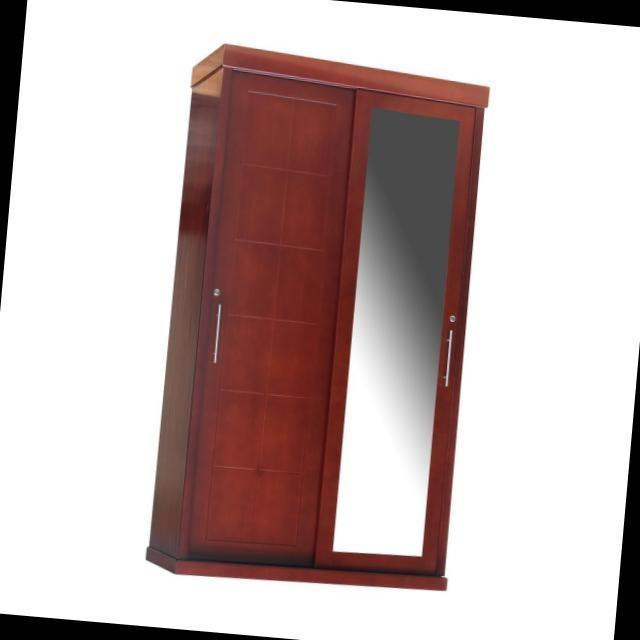Lemari: (171, 42, 490, 590)
